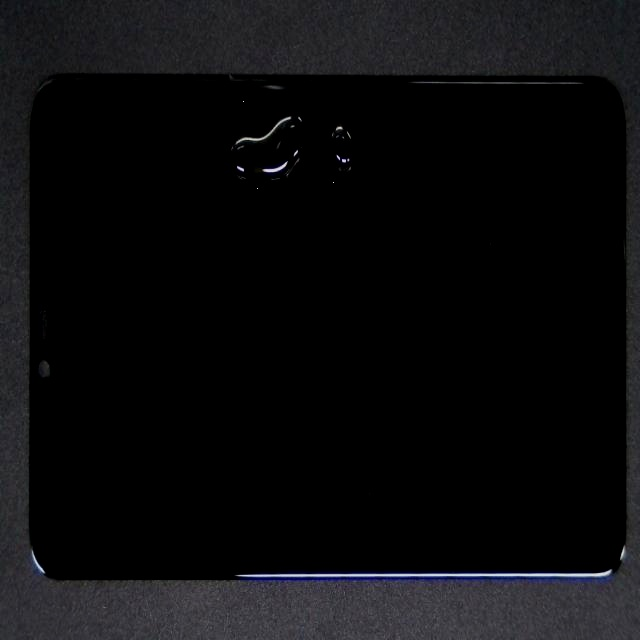oil: (182, 47, 507, 181), (114, 53, 341, 223)
